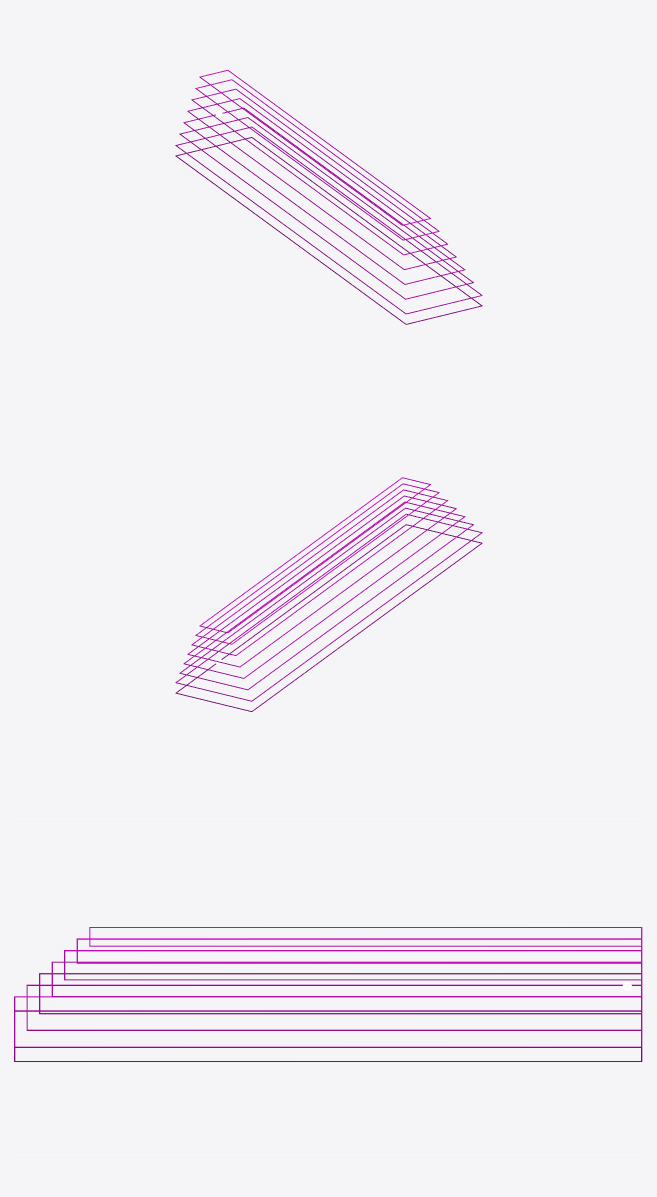
File: tyouda03.glb
3 renders of one model, top to bottom at view 1: azimuth 30°, elevation 25°; view 2: azimuth 150°, elevation 25°; view 3: azimuth 270°, elevation 25°, orthographic. The views are drawn at different scales.
Visible parts, largest first — view 1: スイープ.3, スイープ.2, スイープ.4, スイープ.5, スイープ.6, スイープ.7, スイープ.8, スイープ.9; view 2: スイープ.3, スイープ.2, スイープ.4, スイープ.5, スイープ.6, スイープ.7, スイープ.8, スイープ.9; view 3: スイープ.4, スイープ.5, スイープ.6, スイープ.7, スイープ.8, スイープ.2, スイープ.9, スイープ.3, スイープ 2, スイープ 7.
Part boxes in pixels (x1,y1,x2,y2): スイープ.3: [175, 126, 482, 314]; スイープ.2: [175, 137, 482, 324]; スイープ.4: [179, 117, 473, 299]; スイープ.5: [183, 107, 465, 284]; スイープ.6: [187, 98, 456, 269]; スイープ.7: [191, 88, 447, 255]; スイープ.8: [195, 79, 439, 240]; スイープ.9: [199, 70, 430, 225]; スイープ.3: [175, 513, 482, 701]; スイープ.2: [175, 524, 482, 711]; スイープ.4: [179, 507, 473, 690]; スイープ.5: [183, 501, 465, 678]; スイープ.6: [187, 495, 456, 667]; スイープ.7: [191, 489, 448, 655]; スイープ.8: [195, 483, 439, 644]; スイープ.9: [199, 477, 430, 632]; スイープ.4: [26, 984, 642, 1030]; スイープ.5: [39, 973, 642, 1014]; スイープ.6: [51, 961, 642, 997]; スイープ.7: [64, 950, 642, 980]; スイープ.8: [76, 938, 642, 963]; スイープ.2: [14, 1010, 642, 1061]; スイープ.9: [89, 927, 642, 946]; スイープ.3: [14, 996, 642, 1047]; スイープ 2: [16, 1154, 642, 1154]; スイープ 7: [16, 818, 642, 818].
Bounding box in the file's own units: 0.02 × 0.0045 × 0.0201.
